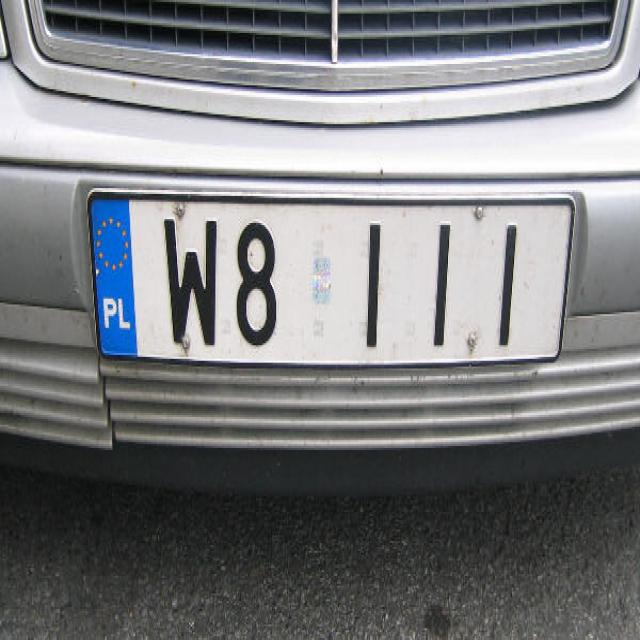pl_license_plate: (92, 194, 570, 359)
